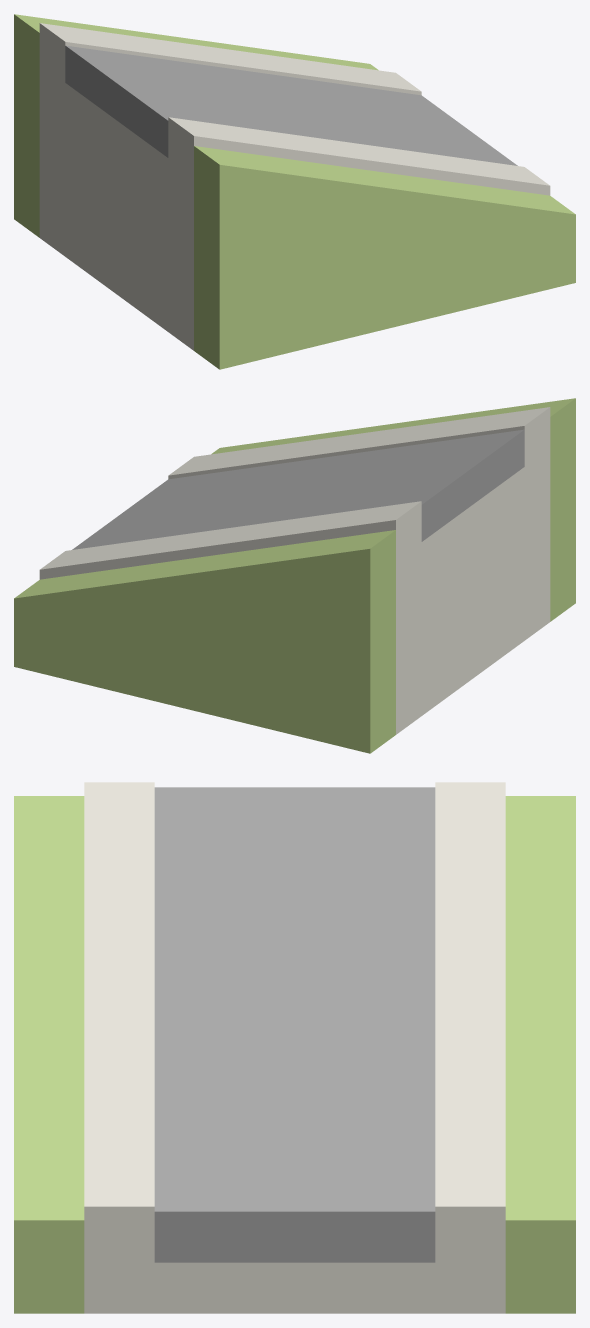
File: road_tile_154.glb
The picture shows the model from 3 angles, top to bottom: view 1: azimuth 30°, elevation 25°; view 2: azimuth 150°, elevation 25°; view 3: azimuth 270°, elevation 25°; orthographic projection. The views are drawn at different scales.
Parts seen in each view (by area): view 1: roadTile_154; view 2: roadTile_154; view 3: roadTile_154.
Part boxes in pixels (<box>): roadTile_154: <box>14,14,575,369</box>; roadTile_154: <box>14,398,575,753</box>; roadTile_154: <box>14,782,575,1313</box>.
Bounding box in the file's own units: 3 × 1.73 × 3.
